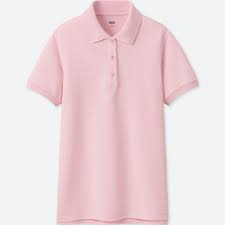C_polo shirt: (29, 1, 198, 225)
